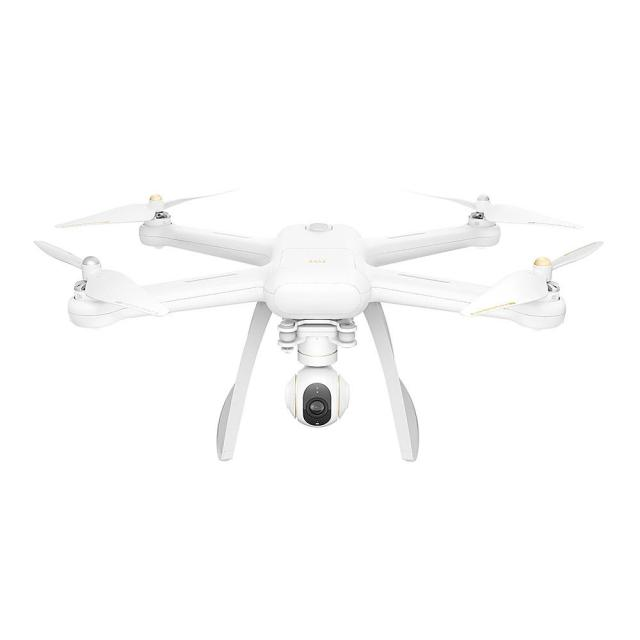drone: (21, 172, 624, 374)
